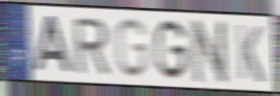A: (32, 14, 75, 75)
G: (113, 16, 149, 80), (154, 18, 189, 83)
K: (234, 21, 266, 85)
N: (191, 18, 231, 87)
R: (72, 16, 111, 76)
